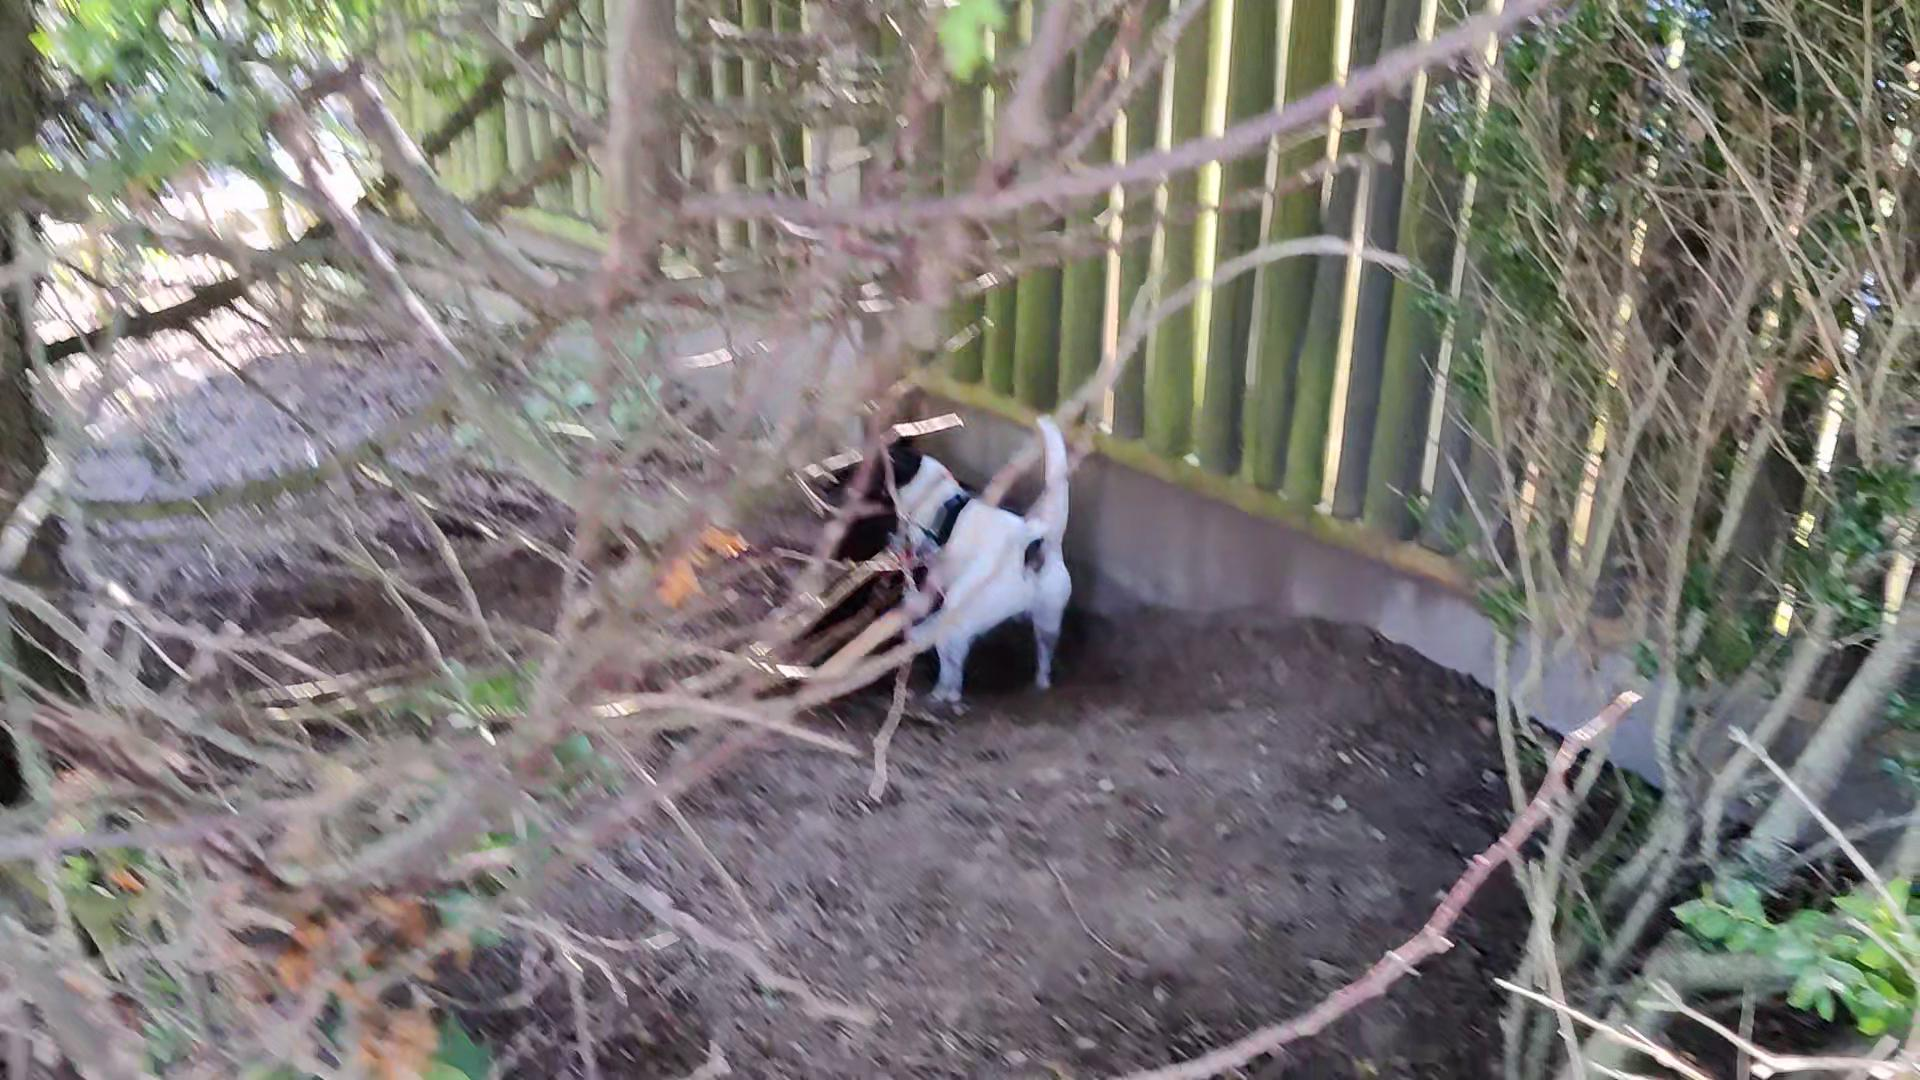Dog: (853, 402, 1098, 711)
